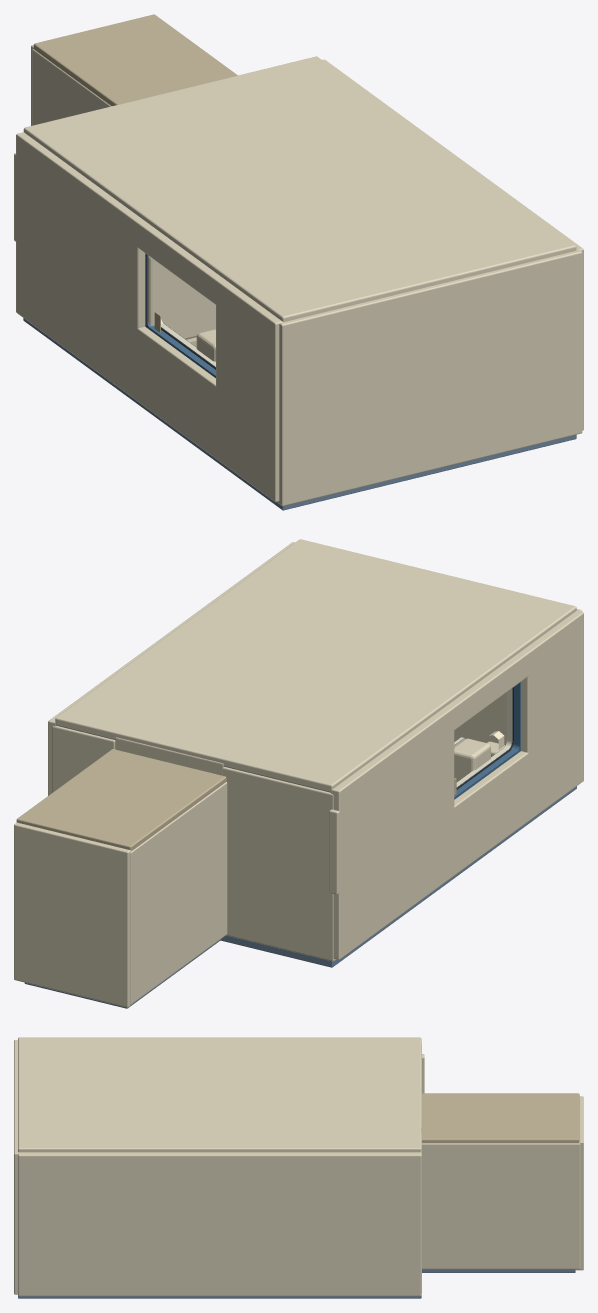
Rendered from hab.glb.
The picture shows the model from 3 angles, top to bottom: view 1: azimuth 30°, elevation 25°; view 2: azimuth 150°, elevation 25°; view 3: azimuth 270°, elevation 25°; orthographic projection. The views are drawn at different scales.
Visible parts, largest first — view 1: Room_0_Ivory, Room_-1_Ivory, Room_0_Sand, Room_0_Floor, Room_0_Blue; view 2: Room_0_Ivory, Room_0_Sand, Room_-1_Ivory, Room_0_Floor, Room_0_Blue, Room_0_Porcelain; view 3: Room_0_Ivory, Room_0_Sand, Room_0_Floor, Room_-1_Ivory.
Part boxes in pixels (x1,y1,x2,y2): Room_0_Ivory: [14, 45, 583, 502]; Room_-1_Ivory: [216, 249, 582, 506]; Room_0_Sand: [33, 14, 237, 332]; Room_0_Floor: [23, 318, 576, 510]; Room_0_Blue: [145, 253, 215, 377]; Room_0_Ivory: [14, 539, 583, 1007]; Room_0_Sand: [16, 749, 456, 850]; Room_-1_Ivory: [454, 609, 583, 756]; Room_0_Floor: [24, 786, 576, 1008]; Room_0_Blue: [454, 682, 520, 799]; Room_0_Porcelain: [456, 688, 512, 787]; Room_0_Ivory: [18, 1037, 583, 1296]; Room_0_Sand: [422, 1093, 579, 1143]; Room_0_Floor: [18, 1269, 575, 1298]; Room_-1_Ivory: [14, 1040, 19, 1294].
Bounding box in the file's own units: 5.09 × 3.04 × 10.45.
